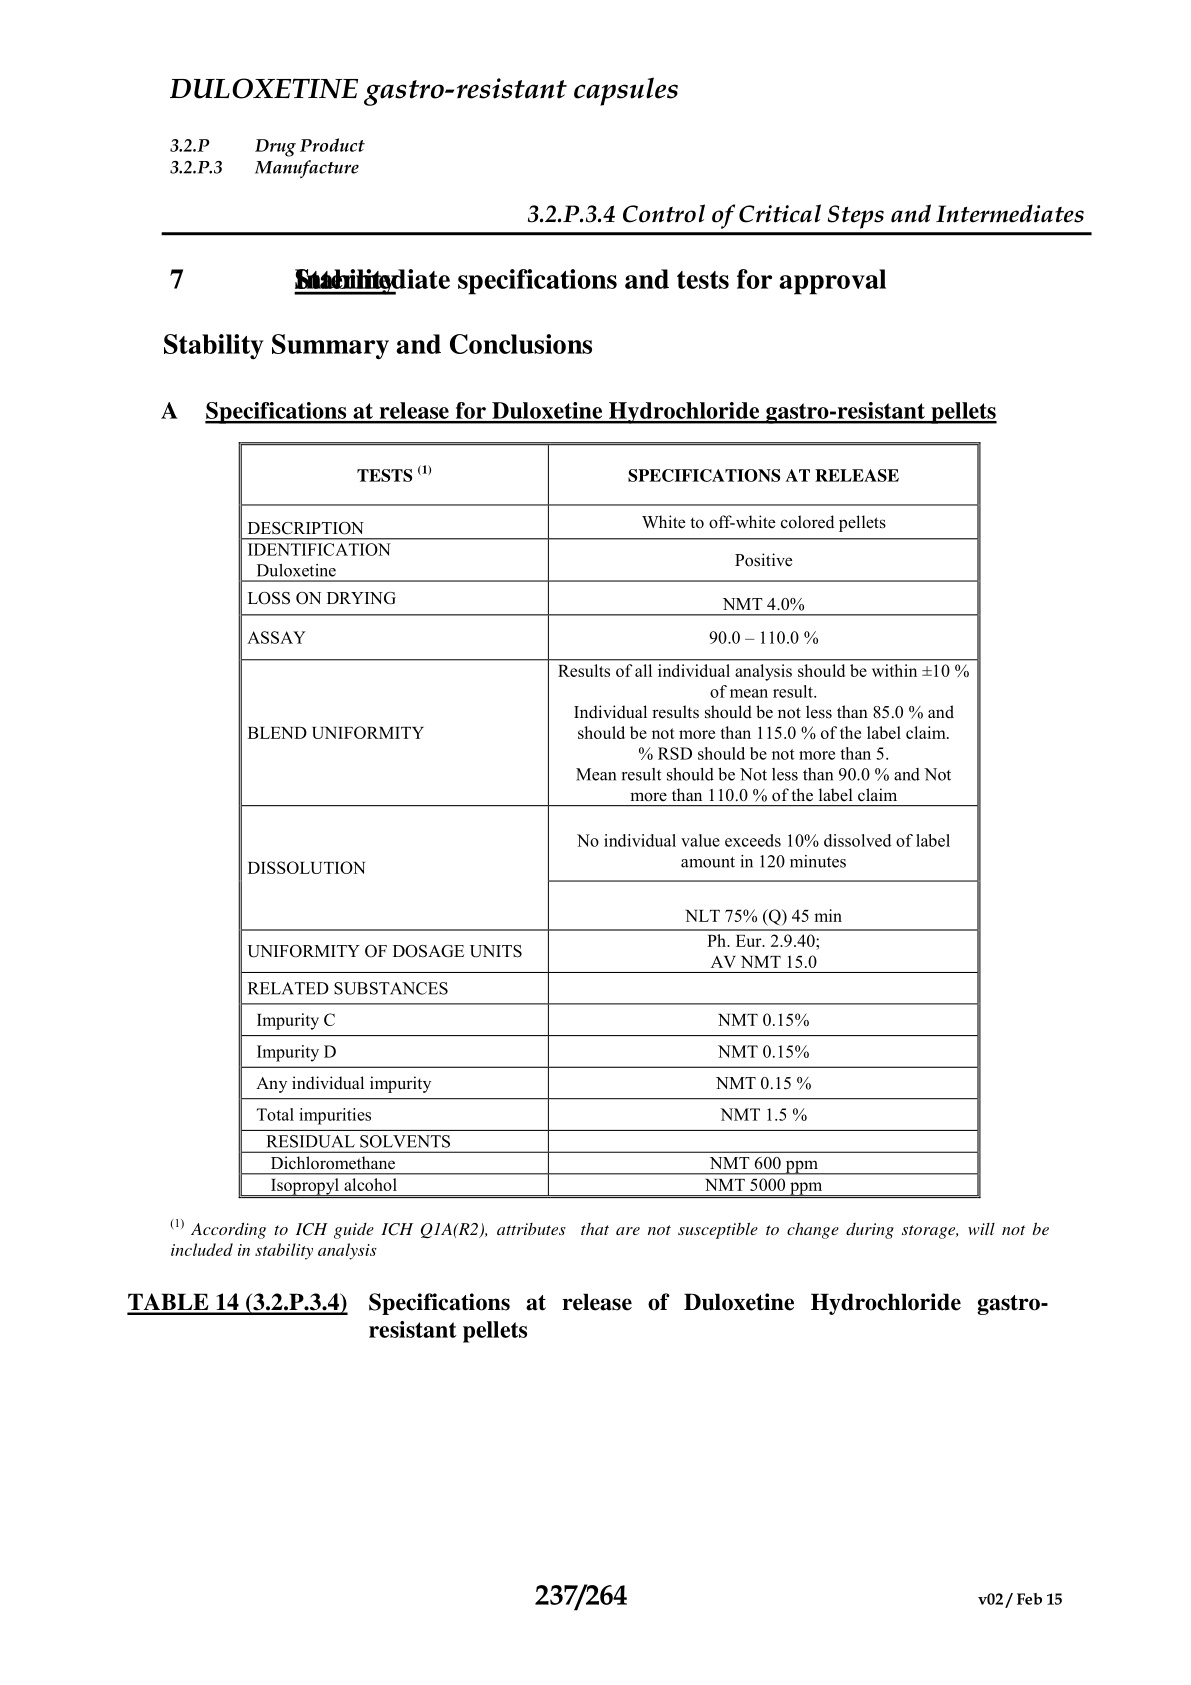merged_cells: (237, 441, 982, 1199)
